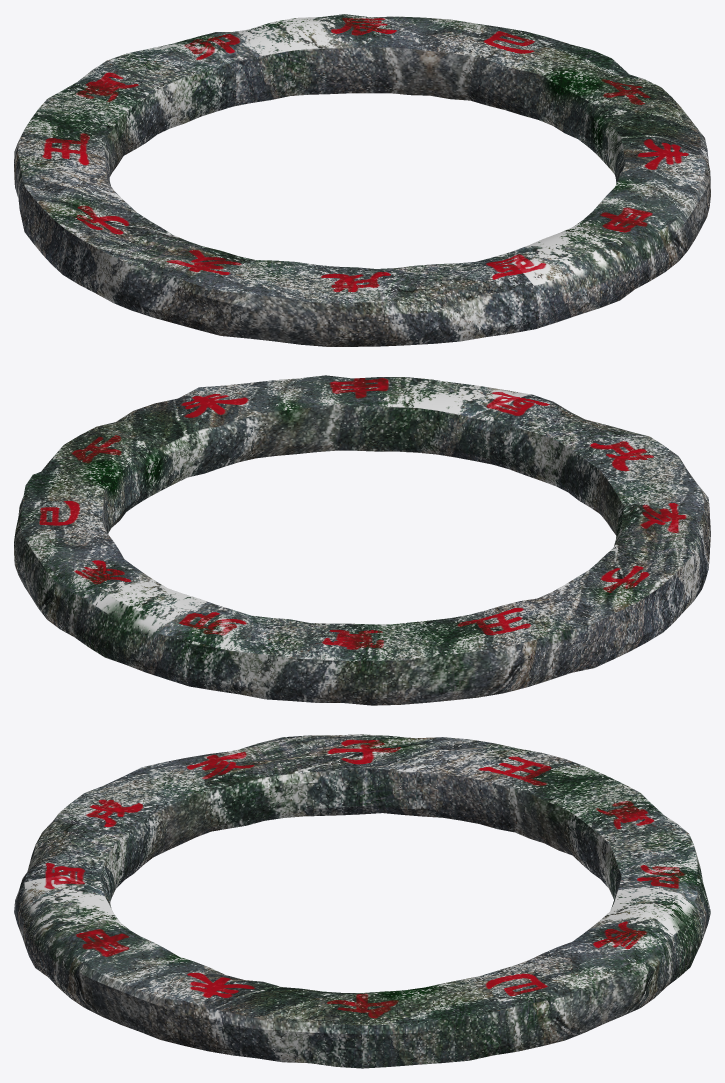
The model's file is rolling_zodaic_low.fbx.
The picture shows the model from 3 angles, top to bottom: view 1: azimuth 30°, elevation 25°; view 2: azimuth 150°, elevation 25°; view 3: azimuth 270°, elevation 25°; orthographic projection.
Parts seen in each view (by area): view 1: polySurface9; view 2: polySurface9; view 3: polySurface9.
Boxes of the visible parts, bbox=[...] form: polySurface9: bbox=[14, 14, 710, 346]; polySurface9: bbox=[14, 375, 710, 705]; polySurface9: bbox=[14, 734, 710, 1068].
Bounding box in the file's own units: 2.74 × 0.2442 × 2.76.
